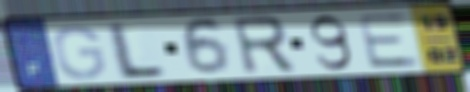6: (178, 15, 234, 79)
9: (306, 13, 355, 72)
E: (353, 11, 423, 71)
G: (50, 23, 108, 81)
L: (107, 20, 169, 81)
R: (228, 14, 300, 77)
